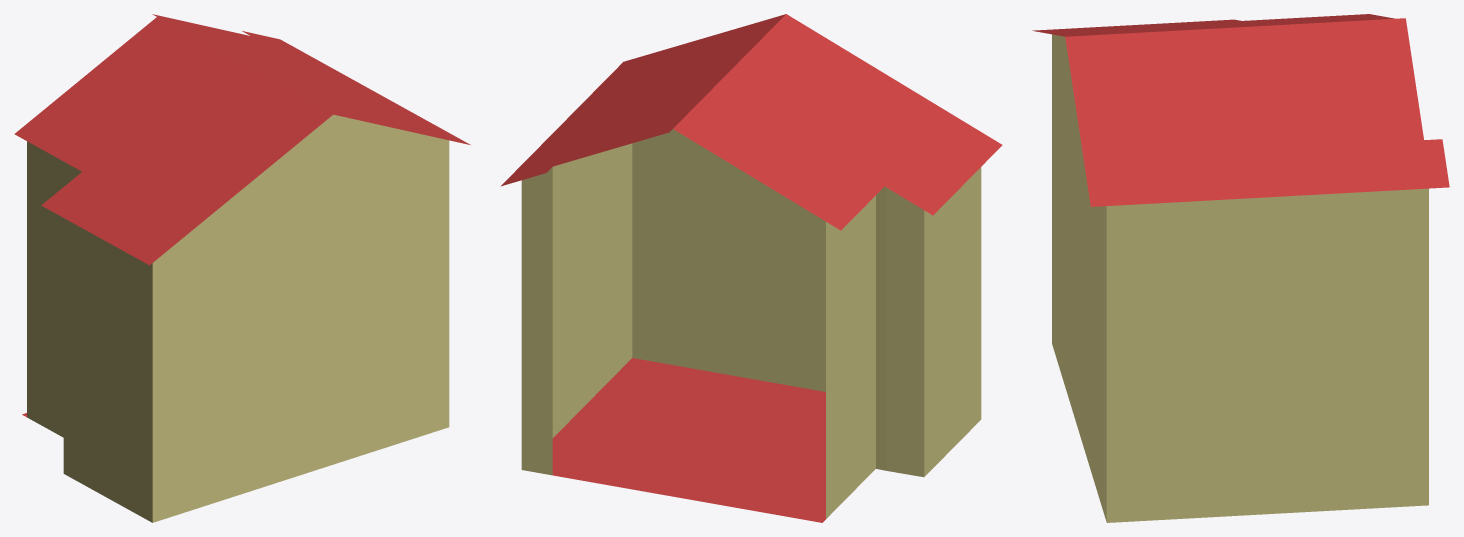
3 views of the same model, side by side, from view 1: azimuth 30°, elevation 25°; view 2: azimuth 150°, elevation 25°; view 3: azimuth 270°, elevation 25° (orthographic). The views are drawn at different scales.
Bounding box in the file's own units: 13.18 × 11.32 × 12.27.
